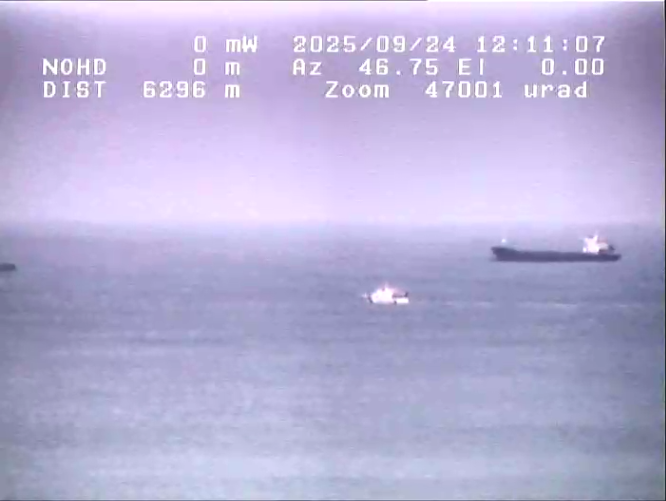PATROL_VESSEL: (350, 275, 420, 311)
TANKER: (477, 235, 638, 278)
